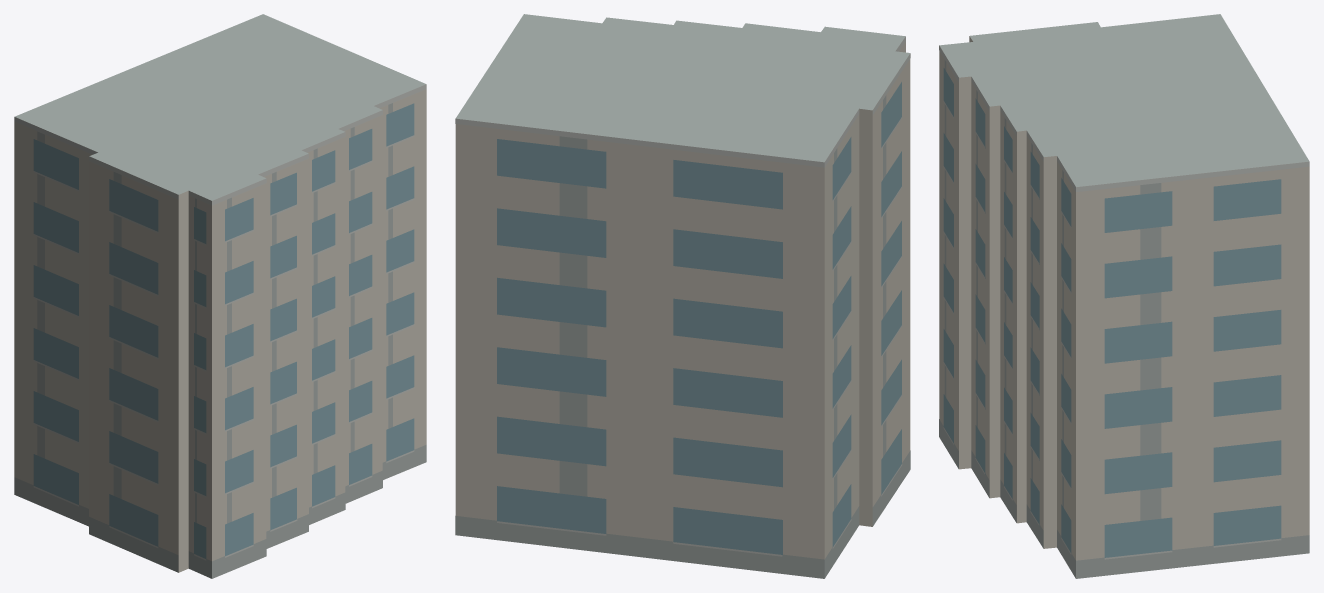
File: survey-upis-32680133.glb
3 renders of one model, left to right at view 1: azimuth 30°, elevation 25°; view 2: azimuth 150°, elevation 25°; view 3: azimuth 270°, elevation 25°, orthographic. The views are drawn at different scales.
Parts seen in each view (by area): view 1: survey-upis-32680133.tmp; view 2: survey-upis-32680133.tmp; view 3: survey-upis-32680133.tmp.
Part boxes in pixels (<box>): survey-upis-32680133.tmp: <box>14,14,426,578</box>; survey-upis-32680133.tmp: <box>455,14,910,578</box>; survey-upis-32680133.tmp: <box>939,14,1309,578</box>.
Bounding box in the file's own units: 18.12 × 19.1 × 16.38.
